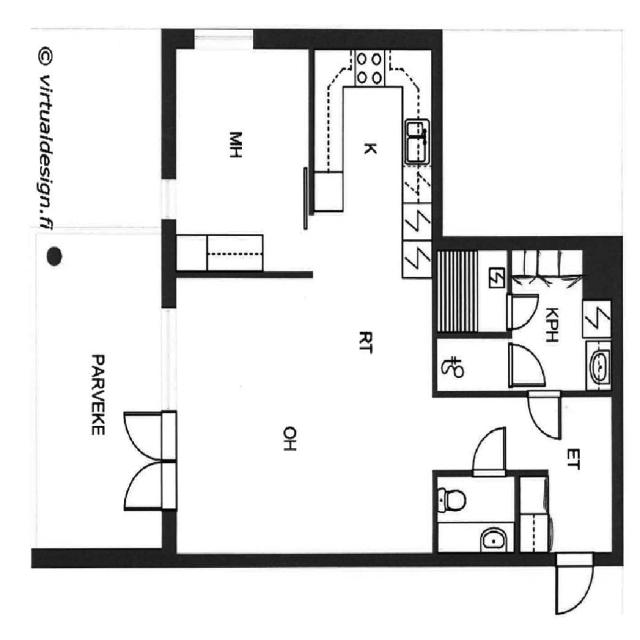door: (506, 278, 546, 388), (554, 550, 598, 618), (121, 408, 167, 463), (468, 423, 511, 479), (121, 460, 166, 510), (524, 386, 564, 442), (507, 339, 548, 387), (504, 290, 540, 332)
window: (153, 299, 183, 418), (188, 22, 260, 55), (157, 170, 180, 229), (300, 162, 316, 223)
zone: (171, 270, 433, 561), (170, 42, 309, 271), (310, 42, 438, 272), (519, 389, 615, 561), (508, 242, 616, 394), (433, 471, 516, 556), (434, 243, 508, 334), (432, 334, 519, 392), (355, 46, 386, 86)
